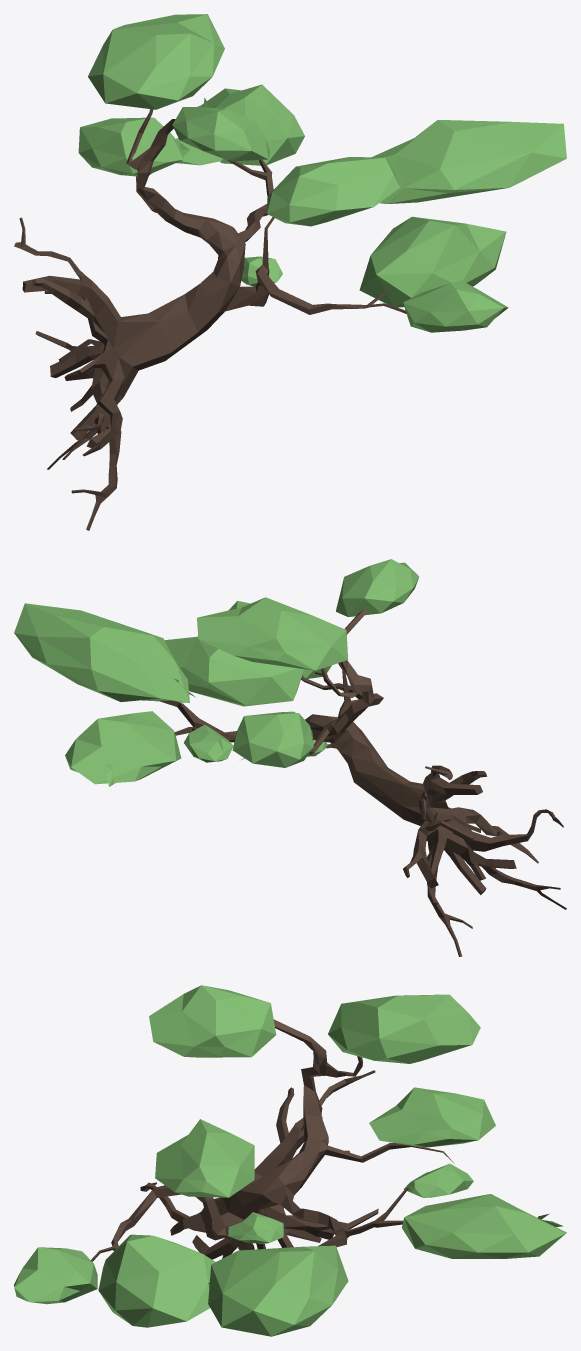
The model's file is bonsai_big.fbx.
3 views of the same model, one above another, from view 1: azimuth 30°, elevation 25°; view 2: azimuth 150°, elevation 25°; view 3: azimuth 270°, elevation 25° (orthographic). The views are drawn at different scales.
Visible parts, largest first — view 1: bonsai_big; view 2: bonsai_big; view 3: bonsai_big.
Part boxes in pixels (x1=…): bonsai_big: x1=14, y1=14, x2=566, y2=530; bonsai_big: x1=14, y1=559, x2=566, y2=956; bonsai_big: x1=14, y1=985, x2=566, y2=1336.
Size of the model in its own units: 6.81 by 4.49 by 5.63.
1 material, 1 textured.
